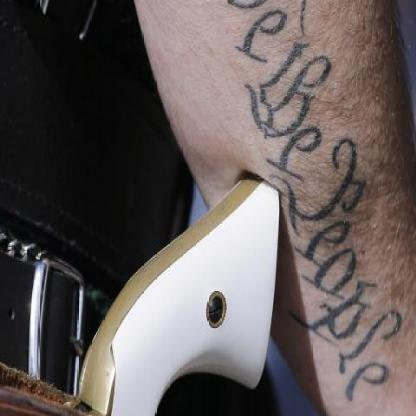gun: (0, 154, 304, 414)
